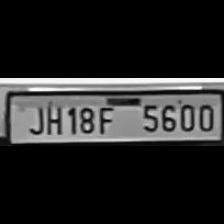0: (196, 100, 214, 132), (178, 99, 195, 130)
1: (63, 102, 79, 134)
5: (138, 99, 158, 133)
6: (158, 100, 176, 132)
8: (74, 102, 96, 134)
F: (96, 102, 116, 134)
H: (44, 100, 64, 136)
J: (25, 99, 45, 135)
